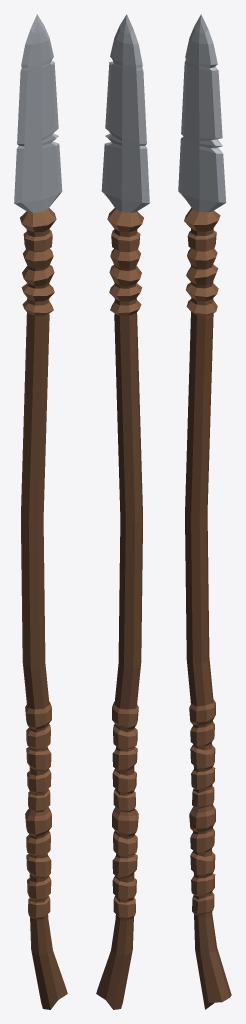
The model's file is Spear_GD.glb.
The picture shows the model from 3 angles, left to right: view 1: azimuth 30°, elevation 25°; view 2: azimuth 150°, elevation 25°; view 3: azimuth 330°, elevation 25°; orthographic projection.
Parts seen in each view (by area): view 1: Spear; view 2: Spear; view 3: Spear.
Part boxes in pixels (<box>): Spear: <box>14,14,67,1009</box>; Spear: <box>96,14,149,1009</box>; Spear: <box>178,14,231,1009</box>.
Bounding box in the file's own units: 3.98 × 72.88 × 2.44.
